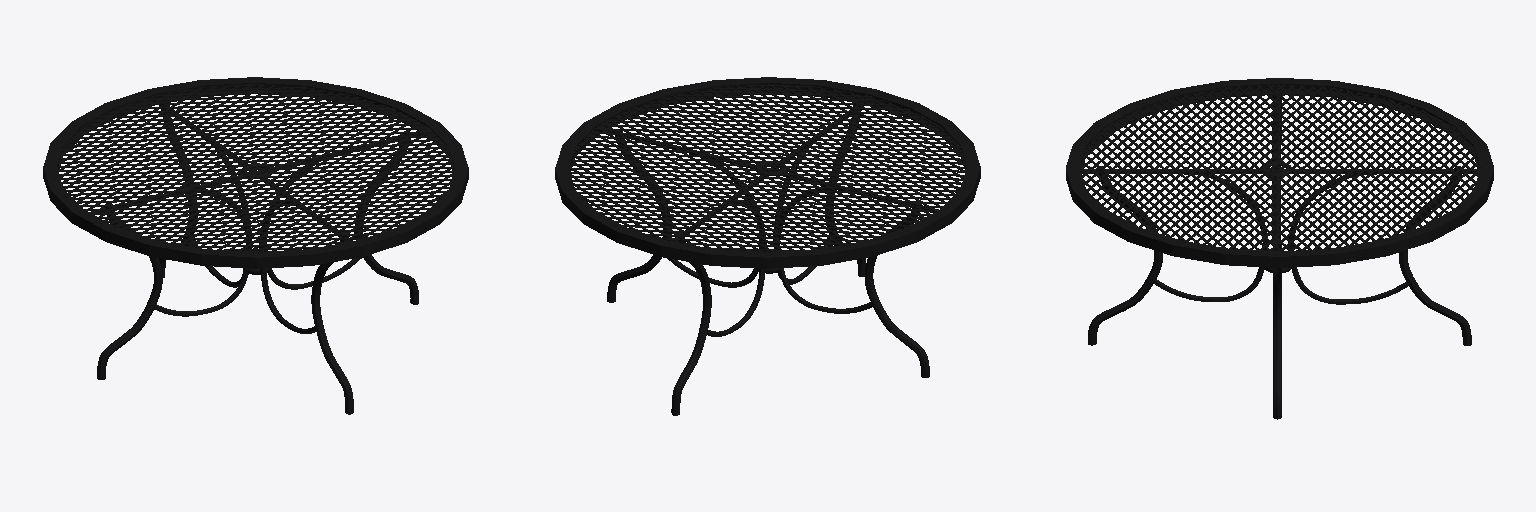
Rendered from blackDeckTable.obj.
The picture shows the model from 3 angles: view 1: azimuth 30°, elevation 25°; view 2: azimuth 150°, elevation 25°; view 3: azimuth 270°, elevation 25°; orthographic projection.
Parts seen in each view (by area): view 1: blackdecktable; view 2: blackdecktable; view 3: blackdecktable.
Part boxes in pixels (x1,y1,x2,y2): blackdecktable: (43, 77, 468, 414); blackdecktable: (555, 77, 980, 415); blackdecktable: (1066, 78, 1493, 419).
Size of the model in its own units: 9.09 by 4.22 by 9.18.